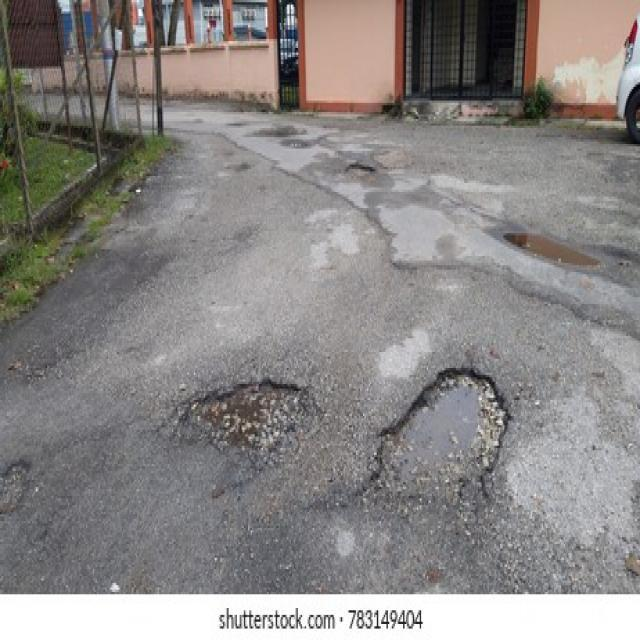Pothole: (368, 366, 512, 510), (175, 382, 308, 466), (0, 459, 29, 522), (344, 160, 376, 176)
